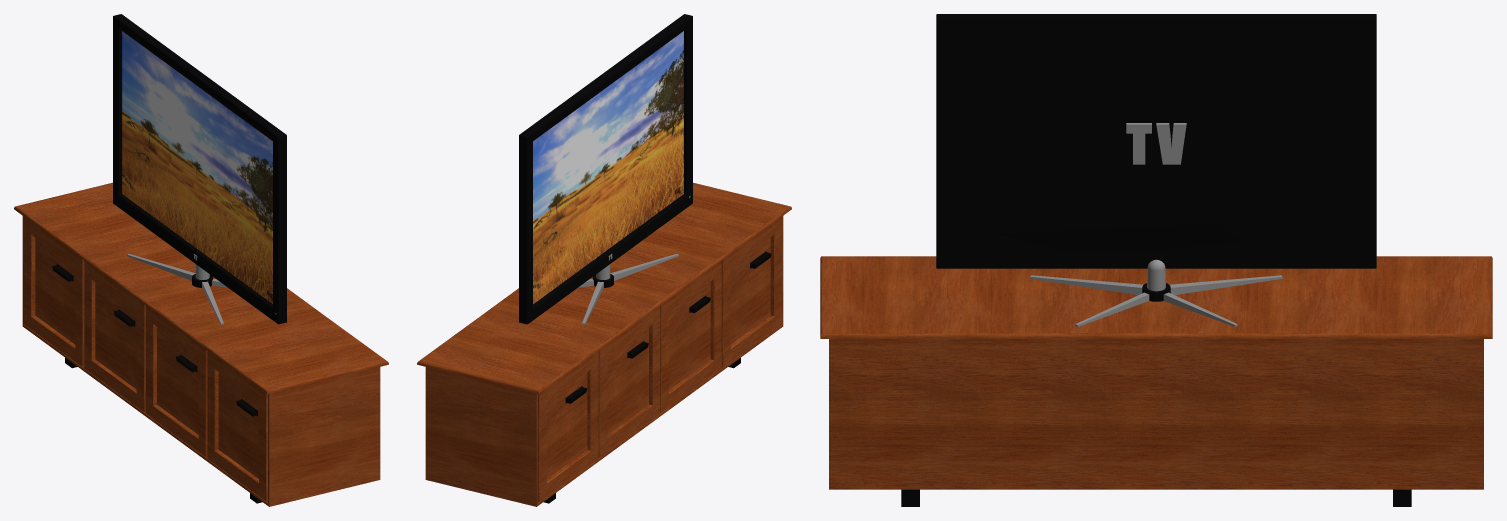
Rendered from FbxStand.fbx.
The picture shows the model from 3 angles, left to right: view 1: azimuth 30°, elevation 25°; view 2: azimuth 150°, elevation 25°; view 3: azimuth 270°, elevation 25°; orthographic projection. The views are drawn at different scales.
Parts seen in each view (by area): view 1: Furniture, pCube1, pCube2; view 2: Furniture, pCube1, pCube5; view 3: Furniture, pCube1, Trim_Char_V_1_2, pCube2, pCube5, pSphere1.
Part boxes in pixels (x1,y1,x2,y2): Furniture: [14, 182, 388, 506]; pCube1: [113, 14, 286, 324]; pCube2: [127, 254, 195, 280]; Furniture: [417, 182, 791, 506]; pCube1: [519, 14, 692, 324]; pCube5: [610, 254, 678, 280]; Furniture: [820, 256, 1492, 506]; pCube1: [936, 14, 1376, 268]; Trim_Char_V_1_2: [1126, 123, 1186, 164]; pCube2: [1169, 275, 1282, 295]; pCube5: [1030, 275, 1143, 295]; pSphere1: [1142, 259, 1170, 301].
Bounding box in the file's own units: 29.19 × 79.71 × 105.
Materials: 5 (2 with a texture image).
